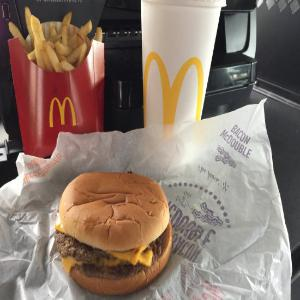cheeseburger_475cal: (54, 164, 177, 288)
fries_350cal: (8, 6, 104, 85)
